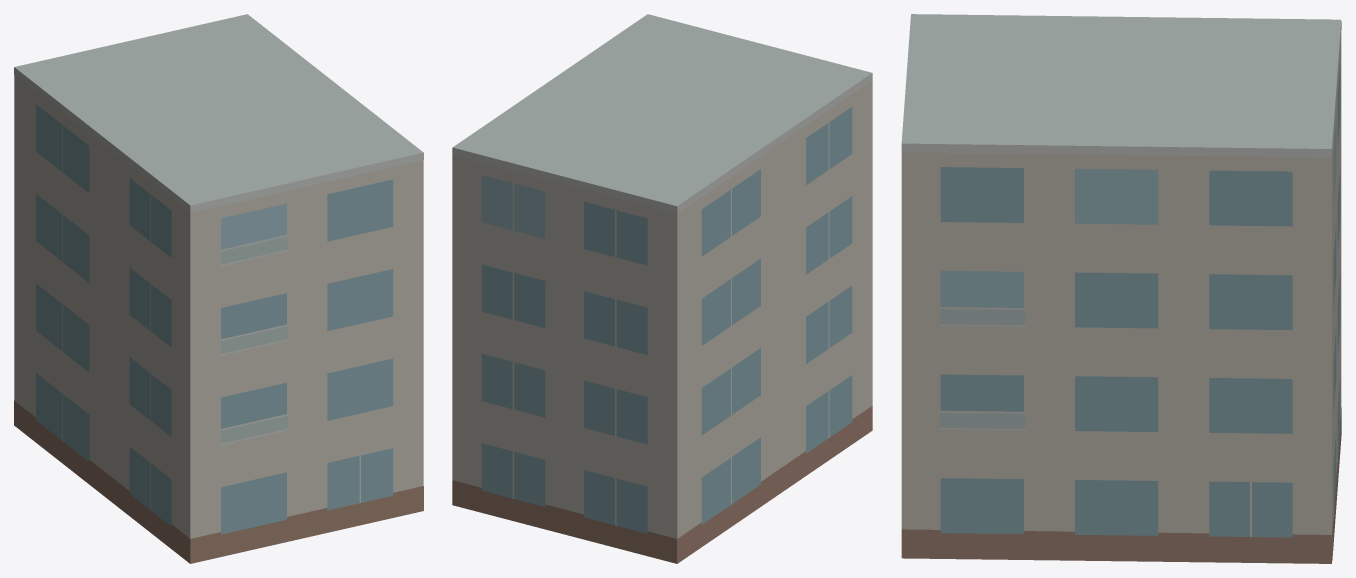
Rendered from survey-upis-32938886.glb.
3 views of the same model, side by side, from view 1: azimuth 30°, elevation 25°; view 2: azimuth 150°, elevation 25°; view 3: azimuth 270°, elevation 25° (orthographic). The views are drawn at different scales.
Parts seen in each view (by area): view 1: survey-upis-32938886.tmp; view 2: survey-upis-32938886.tmp; view 3: survey-upis-32938886.tmp.
Boxes of the visible parts, left/top/right/bottom form: survey-upis-32938886.tmp: left=14, top=14, right=423, bottom=563; survey-upis-32938886.tmp: left=452, top=14, right=872, bottom=563; survey-upis-32938886.tmp: left=901, top=14, right=1341, bottom=563.
Size of the model in its own units: 8.18 by 11.7 by 11.26.
